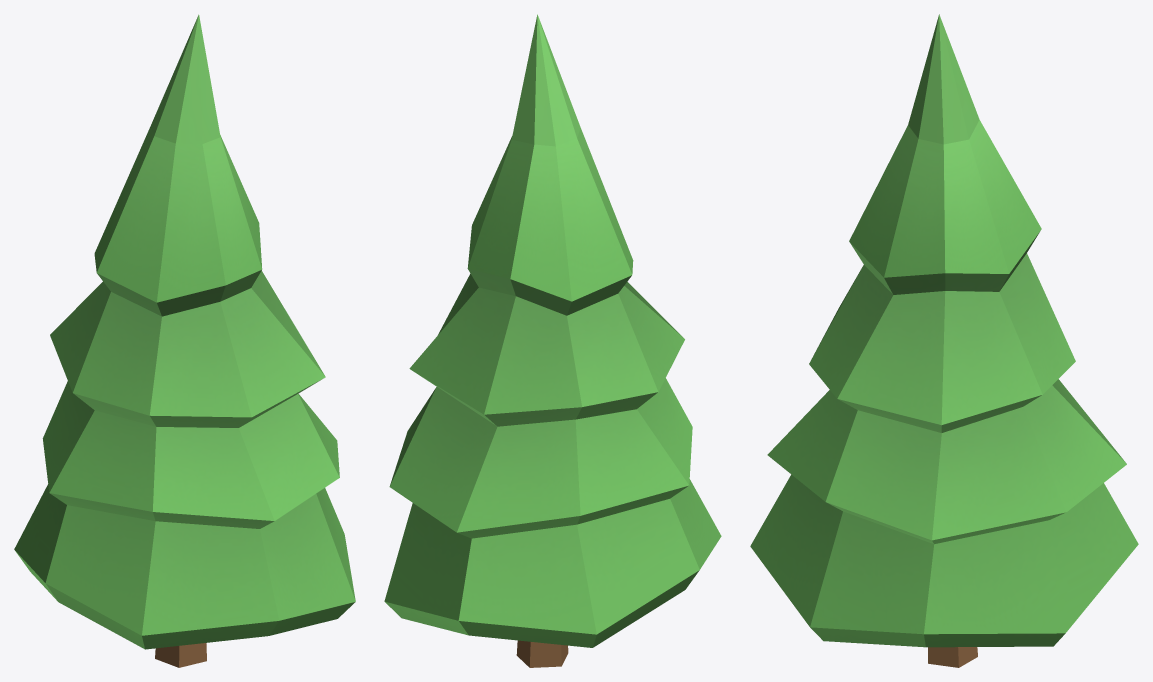
The model's file is Fir_Tree_m_08_LOD.fbx.
The picture shows the model from 3 angles, left to right: view 1: azimuth 30°, elevation 25°; view 2: azimuth 150°, elevation 25°; view 3: azimuth 270°, elevation 25°; orthographic projection.
Parts seen in each view (by area): view 1: Fir_Tree_m_08_LOD0; view 2: Fir_Tree_m_08_LOD0; view 3: Fir_Tree_m_08_LOD0.
Boxes of the visible parts, box(x1,y1,x2,y2) form: Fir_Tree_m_08_LOD0: box(14, 14, 355, 667); Fir_Tree_m_08_LOD0: box(384, 14, 721, 667); Fir_Tree_m_08_LOD0: box(750, 14, 1138, 667).
Size of what is drawn, in the model's own units: 374 by 776 by 421.
